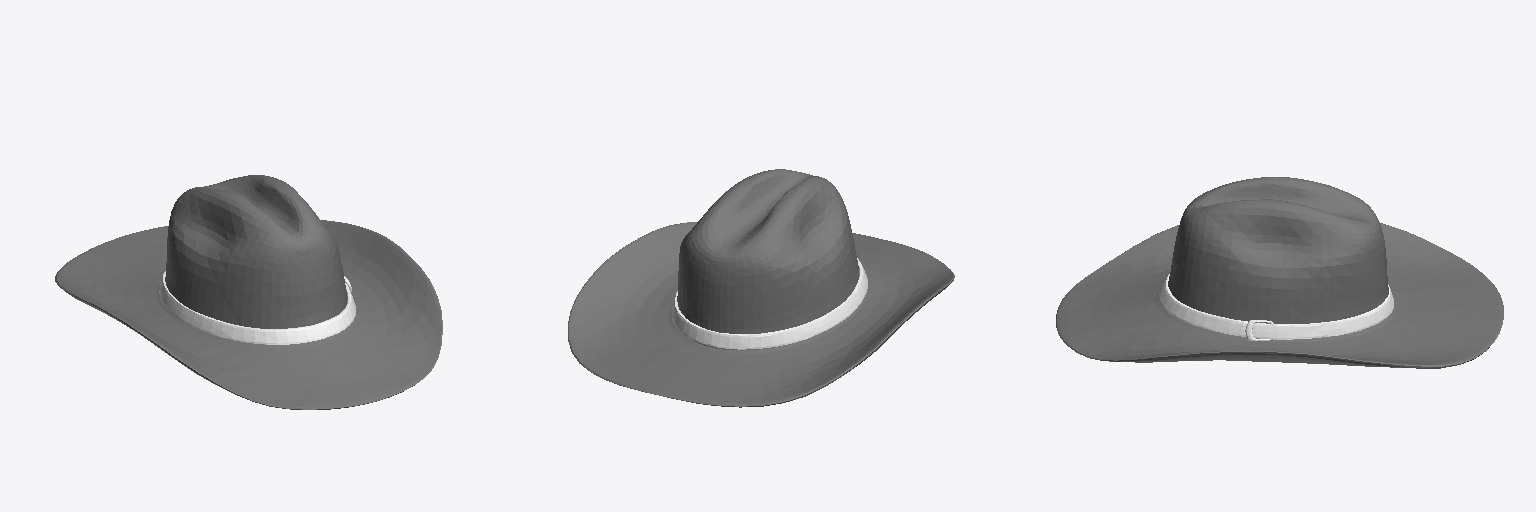
3 renders of one model, left to right at view 1: azimuth 30°, elevation 25°; view 2: azimuth 150°, elevation 25°; view 3: azimuth 270°, elevation 25°, orthographic.
Visible parts, largest first — view 1: objdefault; view 2: objdefault; view 3: objdefault.
Boxes of the visible parts, box(x1,y1,x2,y2) form: objdefault: box(55, 175, 442, 409); objdefault: box(568, 169, 954, 407); objdefault: box(1056, 177, 1503, 368).
Bounding box in the file's own units: 345 × 151 × 460.
Materials: 3 (1 with a texture image).